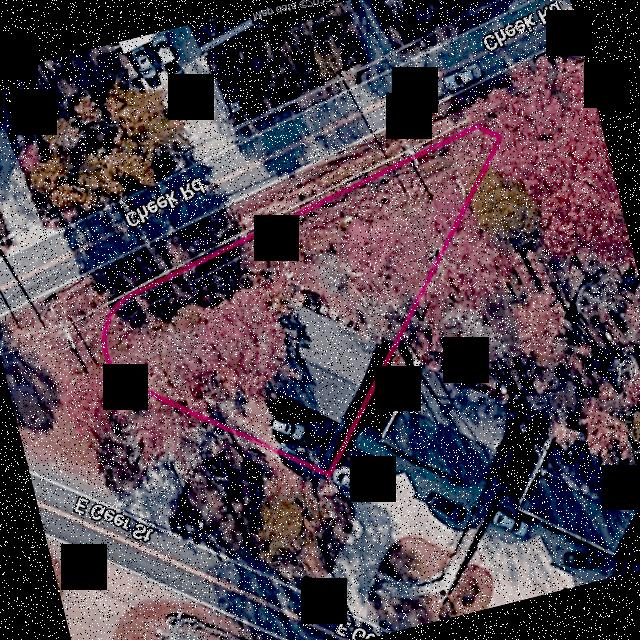Driveway: (215, 409, 303, 447)
Extra Driveway: (123, 425, 237, 523)
Extra Lawn: (89, 99, 456, 301)
House: (247, 298, 379, 422)
